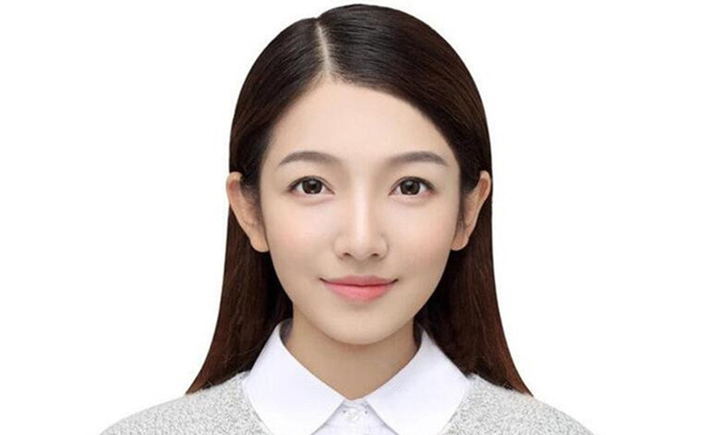unmask: (259, 102, 452, 330)
